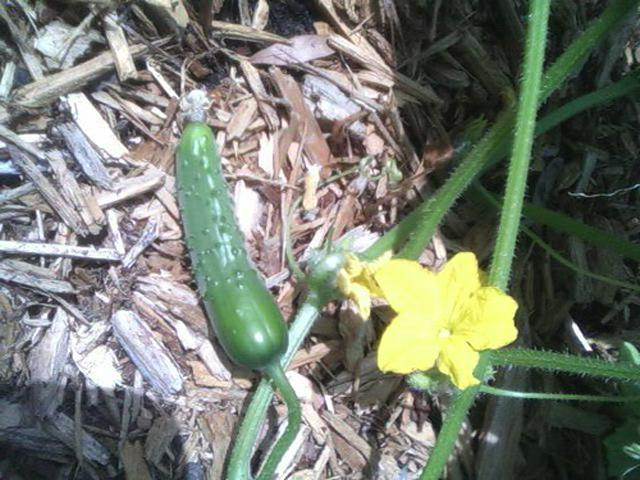cucumber: (170, 95, 288, 372)
